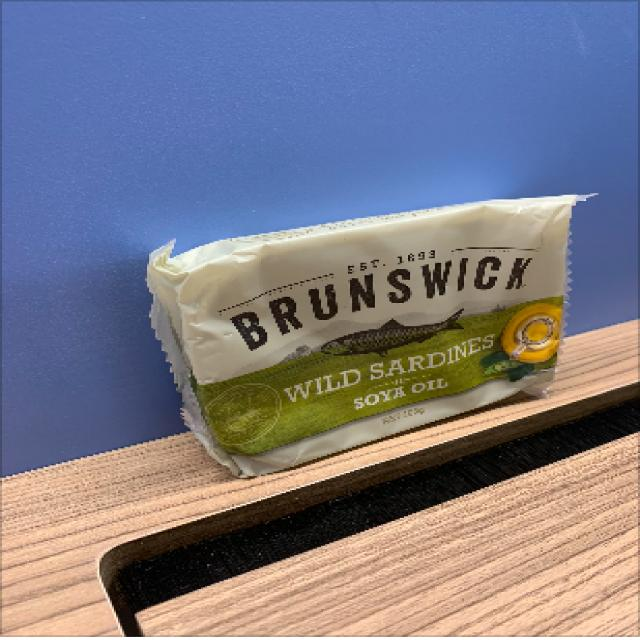object_name: (145, 219, 570, 403)
